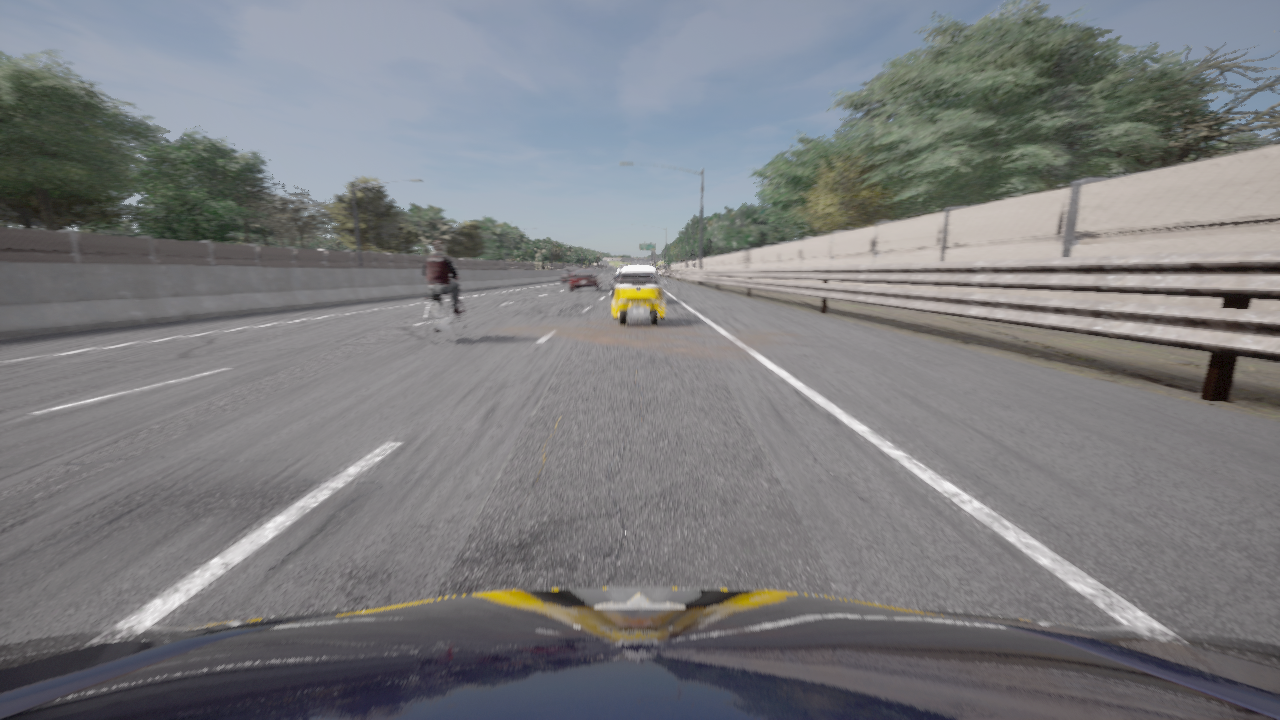cyclist: (0, 588, 1279, 719), (610, 266, 667, 325), (425, 296, 465, 344), (611, 266, 660, 299), (570, 268, 602, 291), (561, 268, 577, 283)
